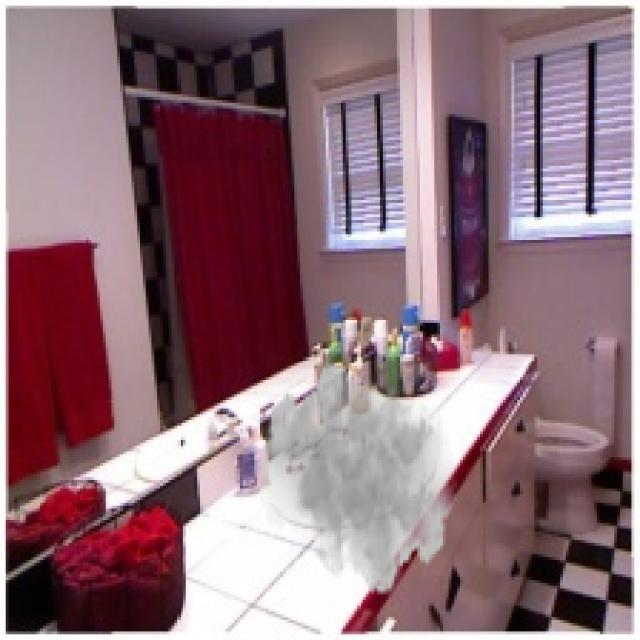smoke: (257, 360, 457, 597)
